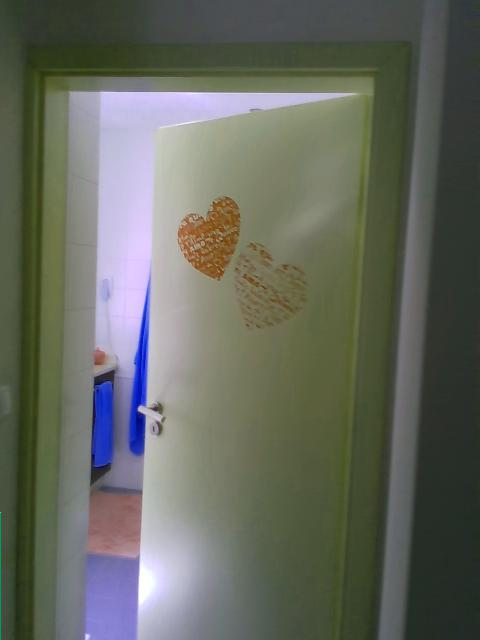semi_door: (15, 41, 410, 639)
